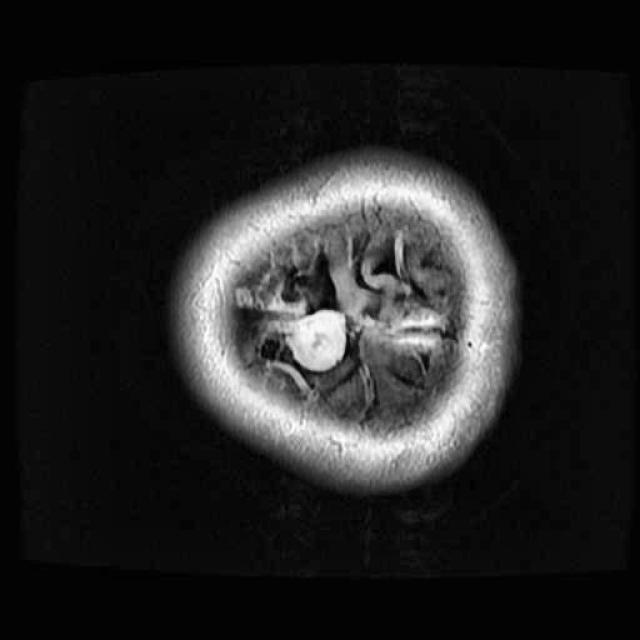Tumor: (278, 302, 358, 380)
